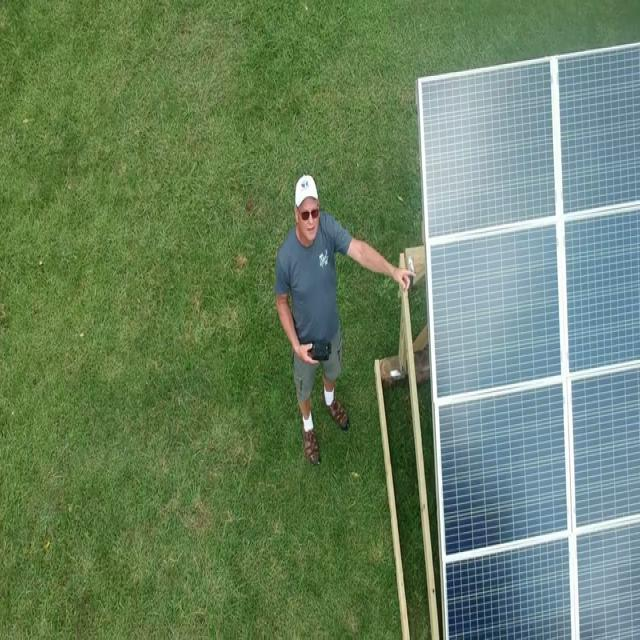Normal Solar Panel: (415, 44, 640, 638)
